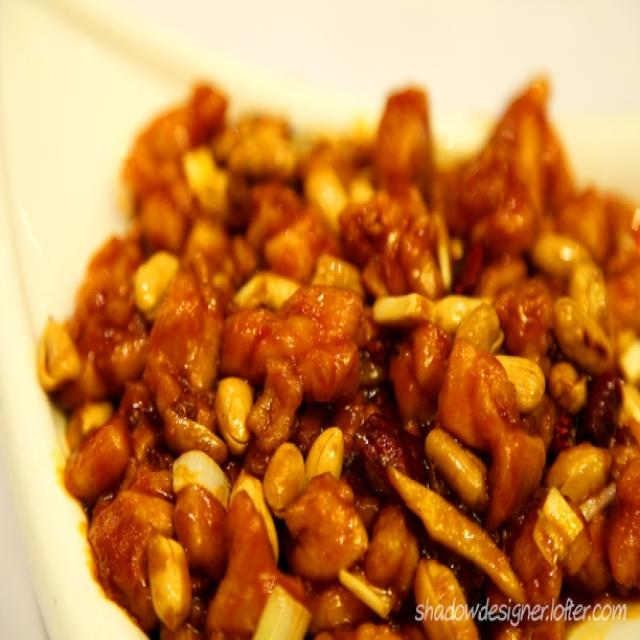鸡肉料理 含炸鸡: (31, 58, 634, 626)
